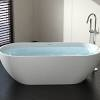bathub: (1, 38, 100, 88)
